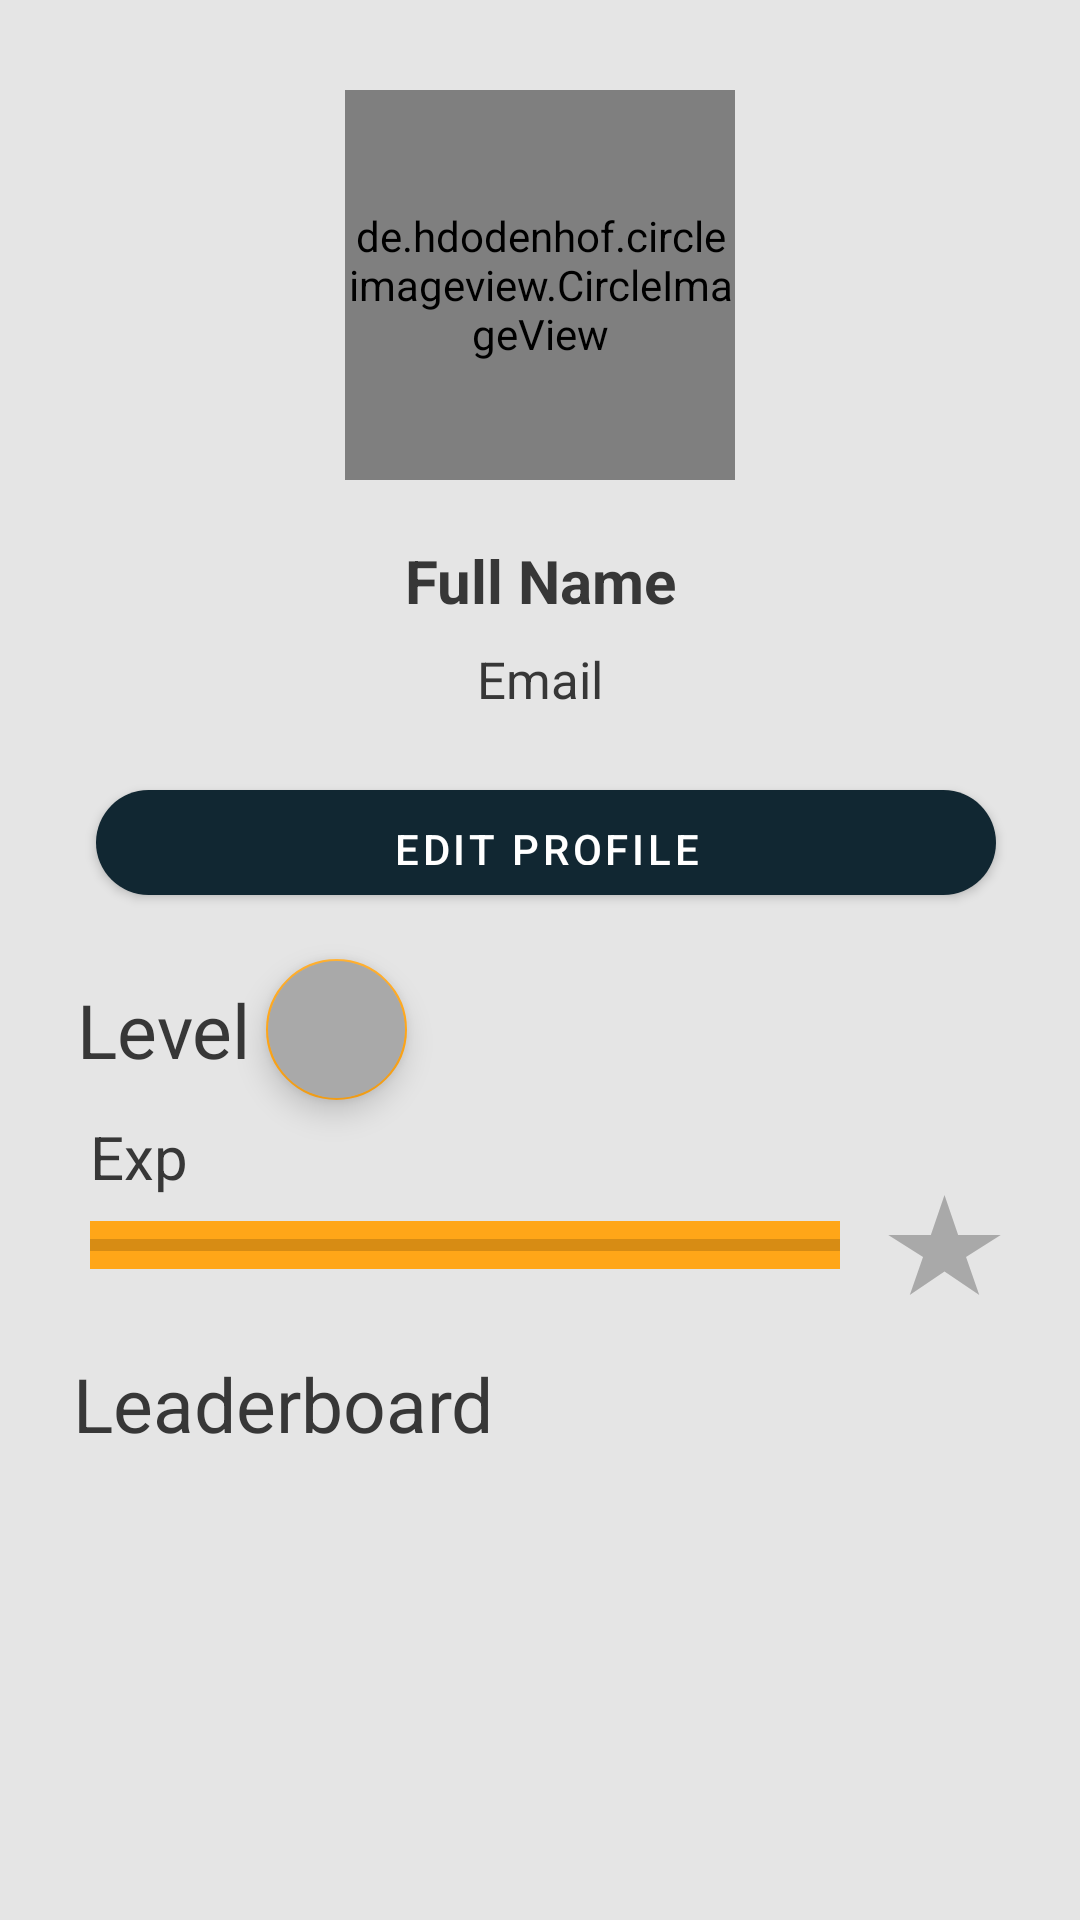

Icons on this 1080x1920 Android screen, each with its box as (x1, y1, x2, y2):
star rate: (889, 1196, 1000, 1295)
